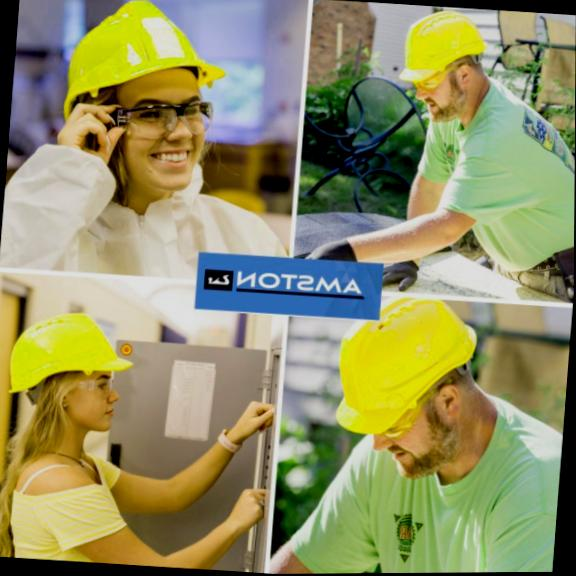no_safety_vest: (399, 78, 575, 274)
